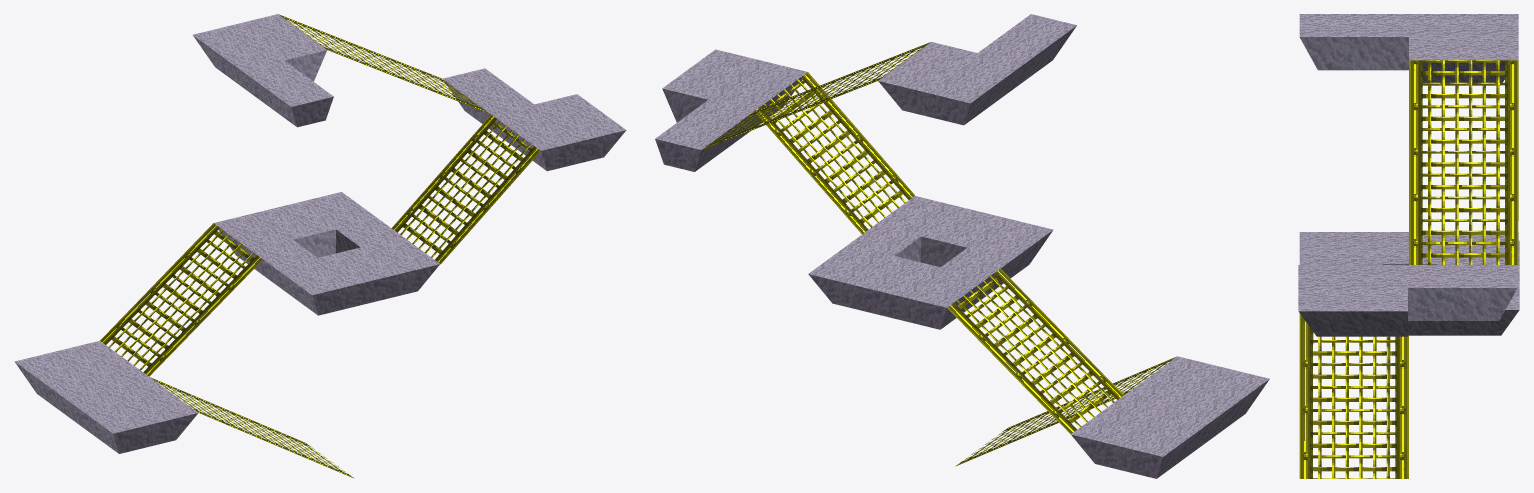
The model's file is km2_nobiru.glb.
The picture shows the model from 3 angles, left to right: view 1: azimuth 30°, elevation 25°; view 2: azimuth 150°, elevation 25°; view 3: azimuth 270°, elevation 25°; orthographic projection. The views are drawn at different scales.
Visible parts, largest first — view 1: km2_nobiru; view 2: km2_nobiru; view 3: km2_nobiru.
Boxes of the visible parts, box(x1,y1,x2,y2) form: km2_nobiru: box(14, 14, 626, 478); km2_nobiru: box(655, 14, 1269, 478); km2_nobiru: box(1298, 14, 1519, 478).
Size of the model in its own units: 7.03 by 5.08 by 2.37.
Materials: 2 (2 with a texture image).
